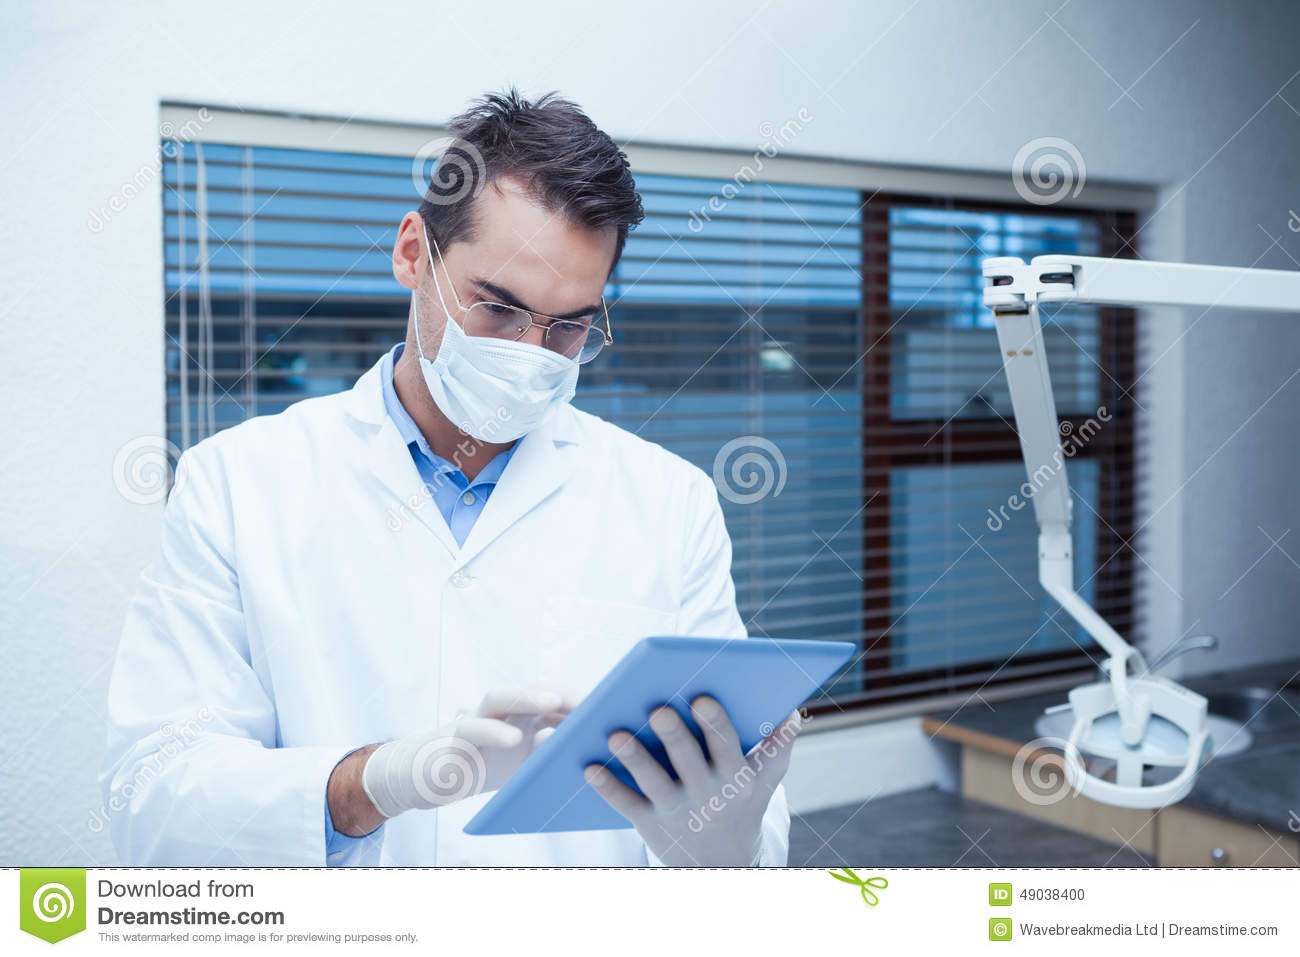mask: (417, 313, 589, 470)
